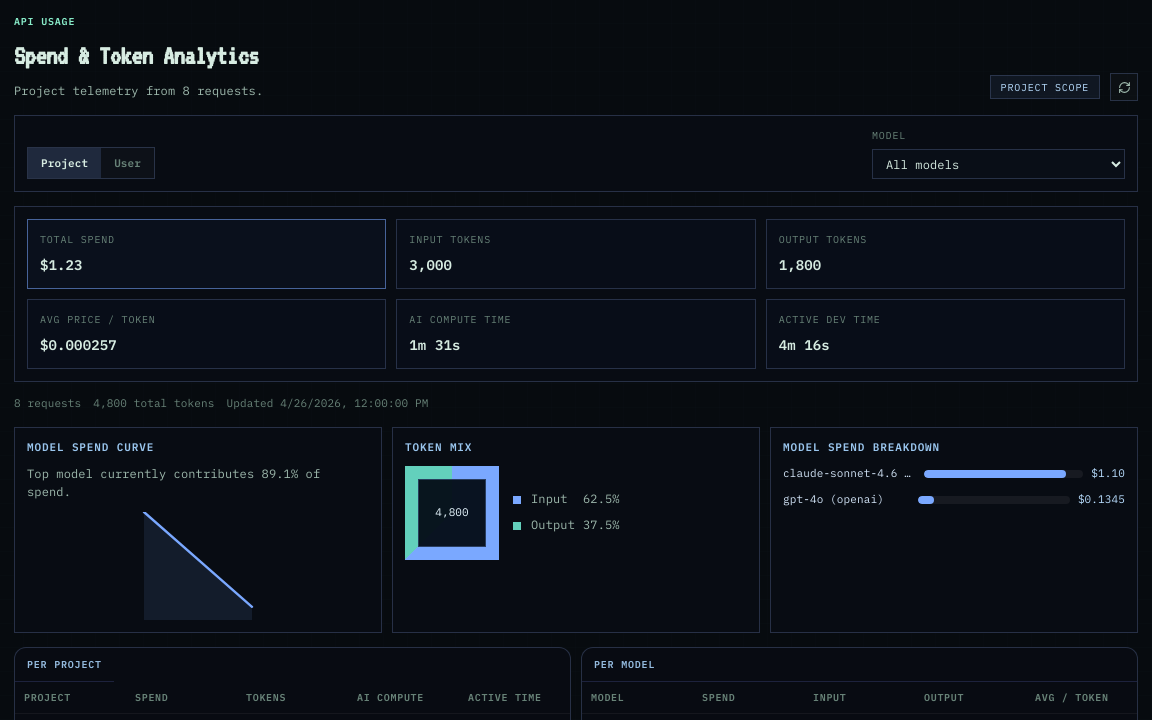
Test: UsageDashboard › shows user-scope project toggle and switches between top and all rows
Click the button "User": [128, 163] box [101,148,154,178]
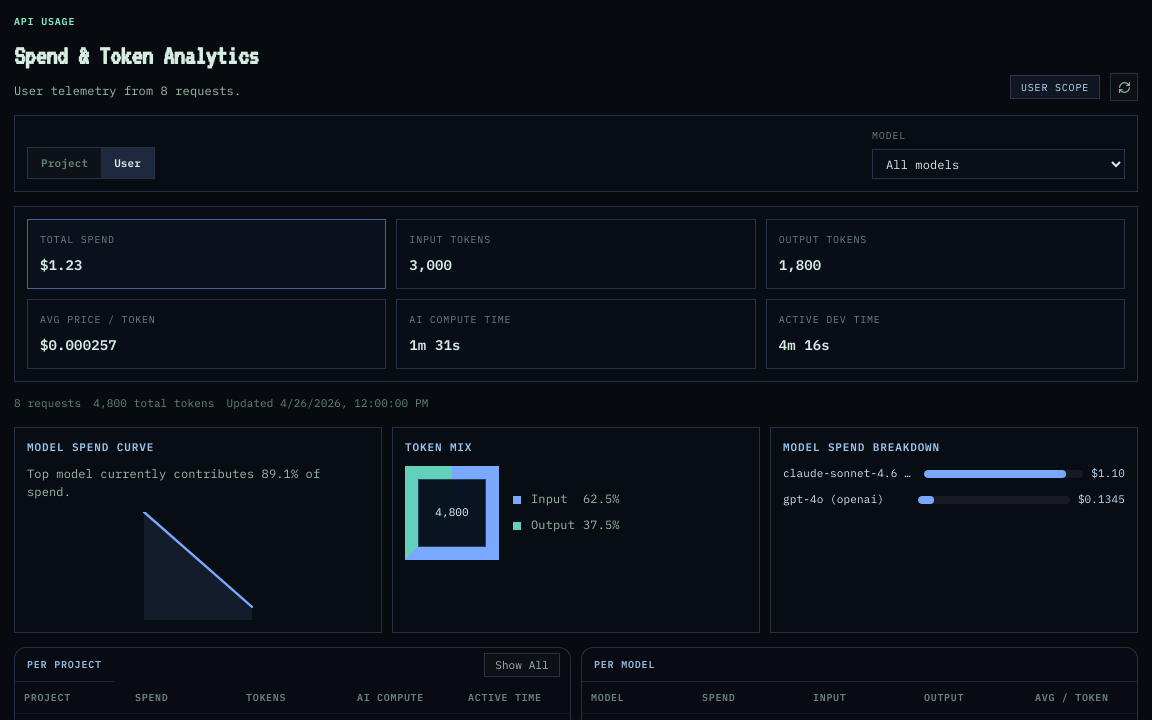
Now the button "Show All" is shown
Click the button "Show All": [522, 665] box [484,653,560,677]
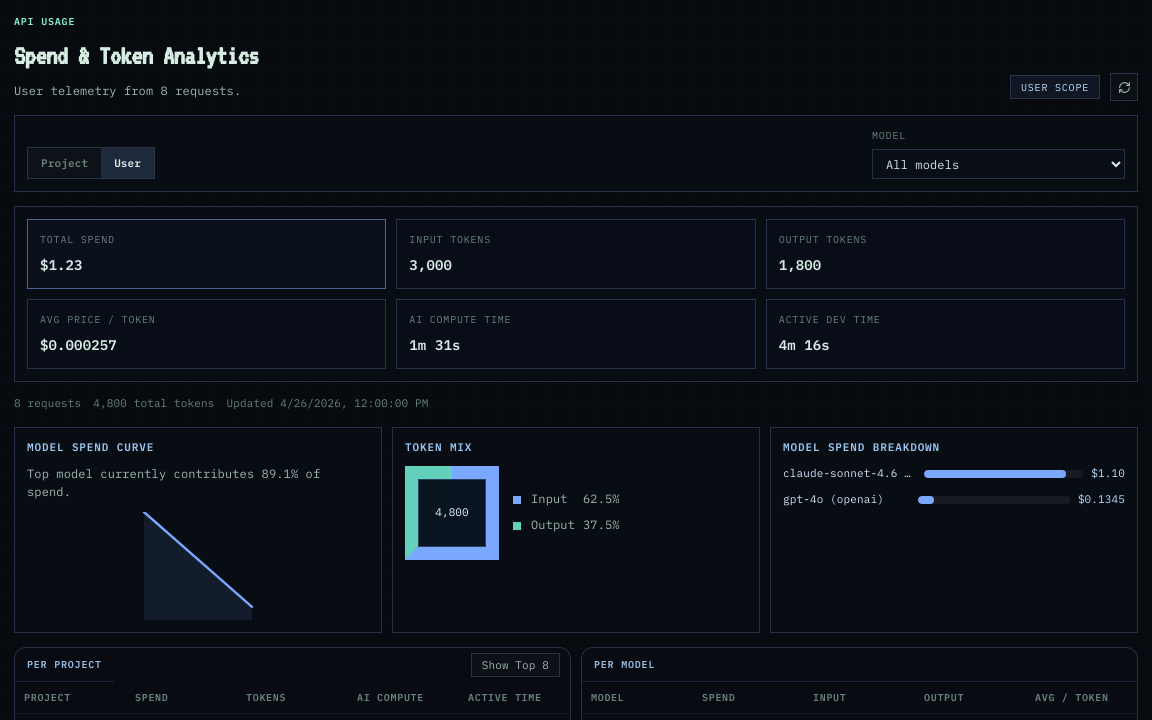
Now the button "Show Top 8" is shown, box [471,653,560,677]
